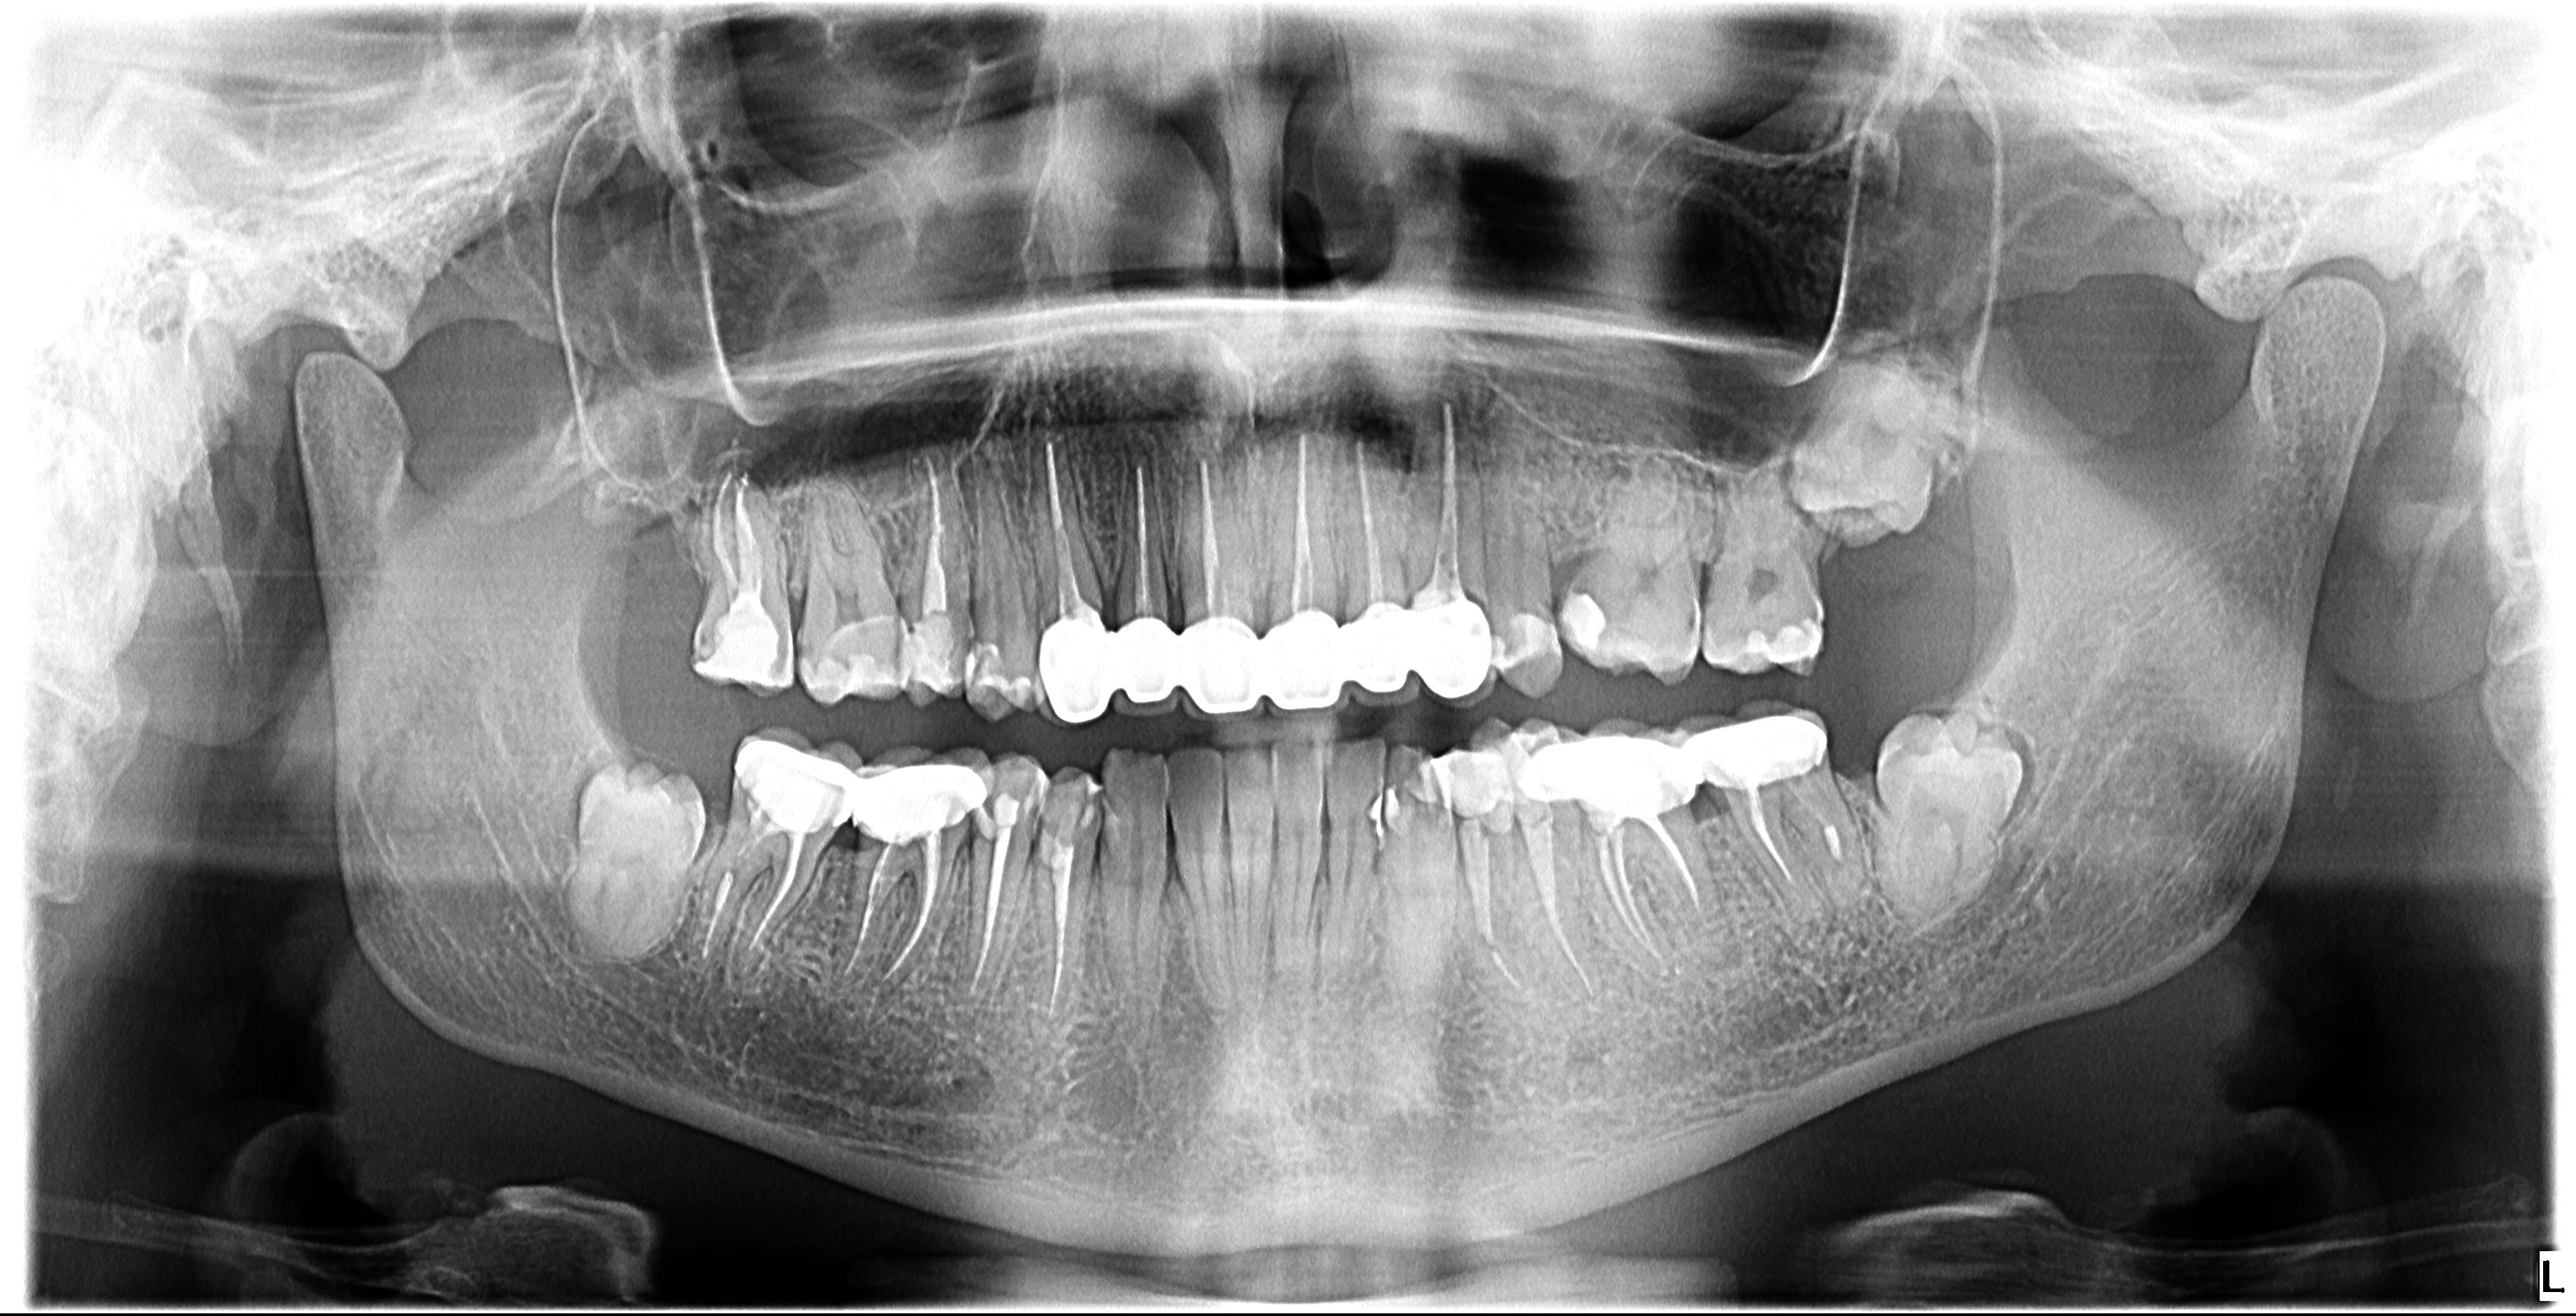API: (1698, 932, 1755, 994)
CAR: (1676, 598, 1720, 646)
END: (1584, 817, 1729, 984), (1504, 817, 1611, 1010), (681, 833, 822, 970), (834, 831, 950, 994), (1737, 777, 1854, 911), (1448, 817, 1529, 1009), (696, 457, 789, 601), (1027, 841, 1096, 1026), (1027, 415, 1091, 613), (1423, 388, 1477, 603), (957, 829, 1022, 1004), (1186, 446, 1244, 618), (1279, 421, 1326, 613), (1346, 425, 1393, 606), (911, 450, 962, 614), (1123, 441, 1165, 621)
IMT: (1822, 698, 2059, 932), (515, 745, 732, 979), (1762, 351, 1958, 567)
OBT: (676, 596, 795, 698), (804, 611, 903, 713), (889, 609, 977, 718), (1425, 730, 1517, 831), (967, 747, 1054, 841), (1734, 603, 1833, 685), (1032, 765, 1106, 875), (952, 629, 1022, 723), (1497, 601, 1576, 675), (1551, 579, 1624, 646), (1395, 747, 1448, 809), (1379, 777, 1421, 854), (1348, 784, 1396, 846)
PRR: (1025, 572, 1504, 737), (1514, 687, 1856, 831), (715, 712, 995, 858)
